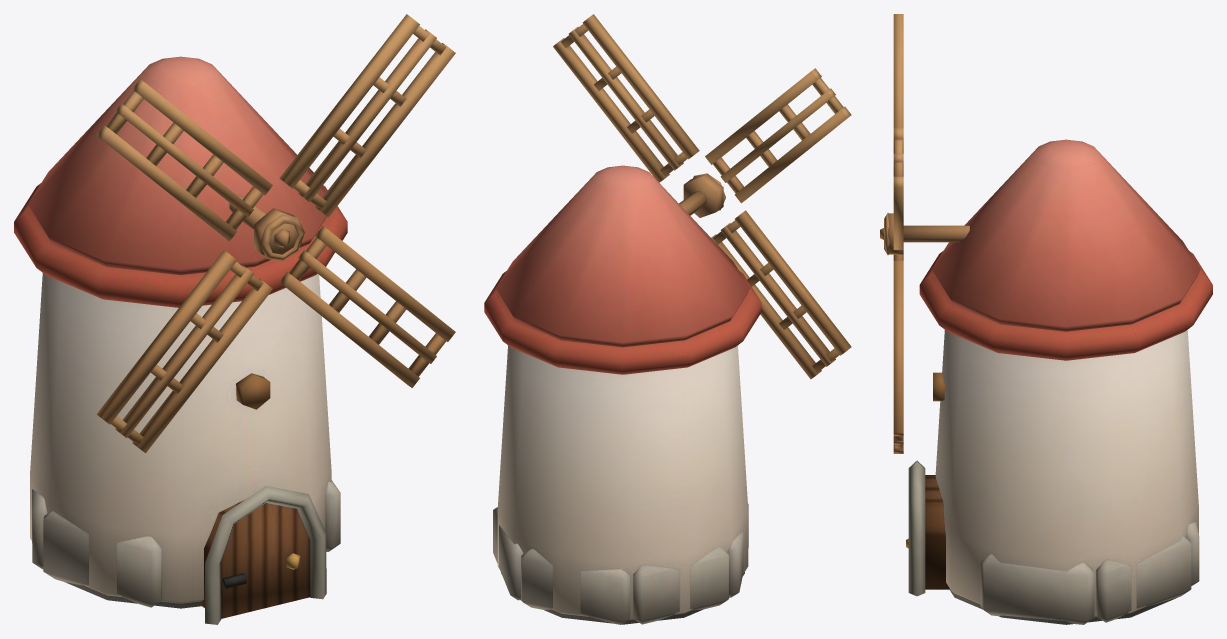
The model's file is mill_2_low.glb.
3 views of the same model, side by side, from view 1: azimuth 30°, elevation 25°; view 2: azimuth 150°, elevation 25°; view 3: azimuth 270°, elevation 25° (orthographic). The views are drawn at different scales.
Parts seen in each view (by area): view 1: mill_2, sails; view 2: mill_2, sails; view 3: mill_2, sails.
Part boxes in pixels (box(x1,y1,x2,y2)): mill_2: box(14, 56, 347, 624); sails: box(96, 14, 455, 453); mill_2: box(484, 165, 761, 624); sails: box(553, 14, 851, 379); mill_2: box(903, 139, 1212, 624); sails: box(880, 14, 903, 453).
Size of the model in its own units: 1.34 by 2.06 by 1.24.
1 material, 1 textured.
